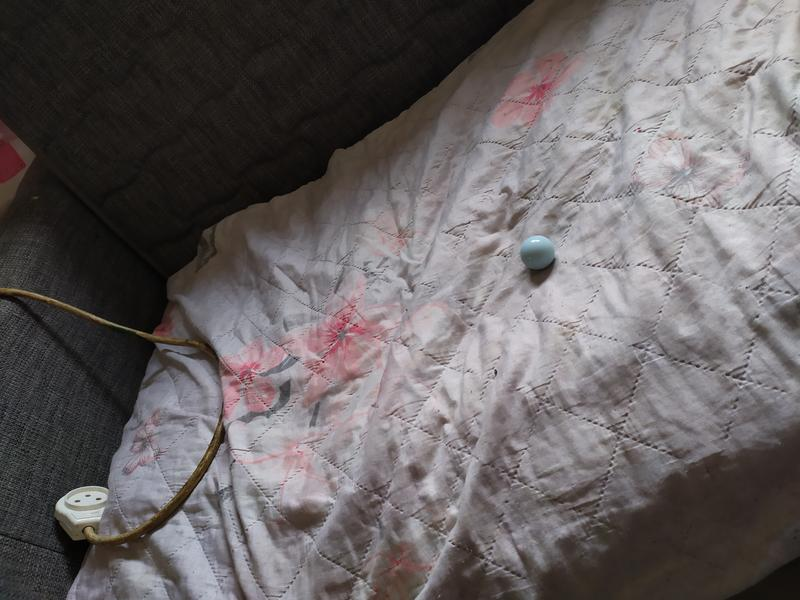Warning: (518, 233, 557, 272)
